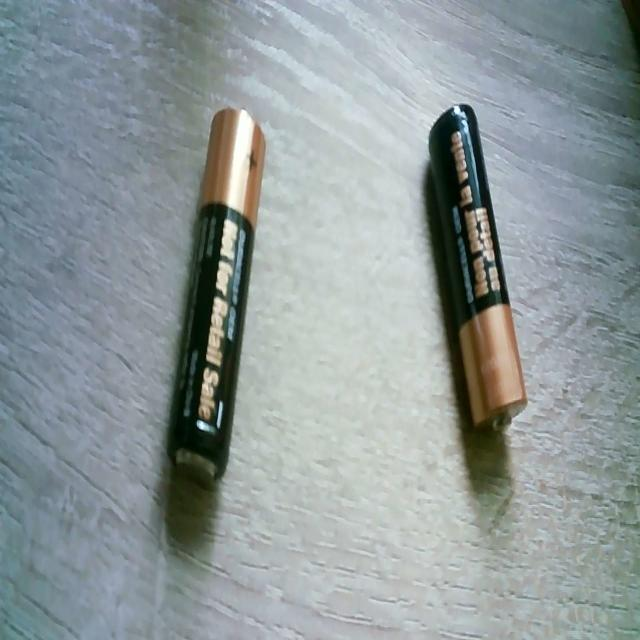AA: (166, 105, 266, 485), (426, 102, 528, 430)
